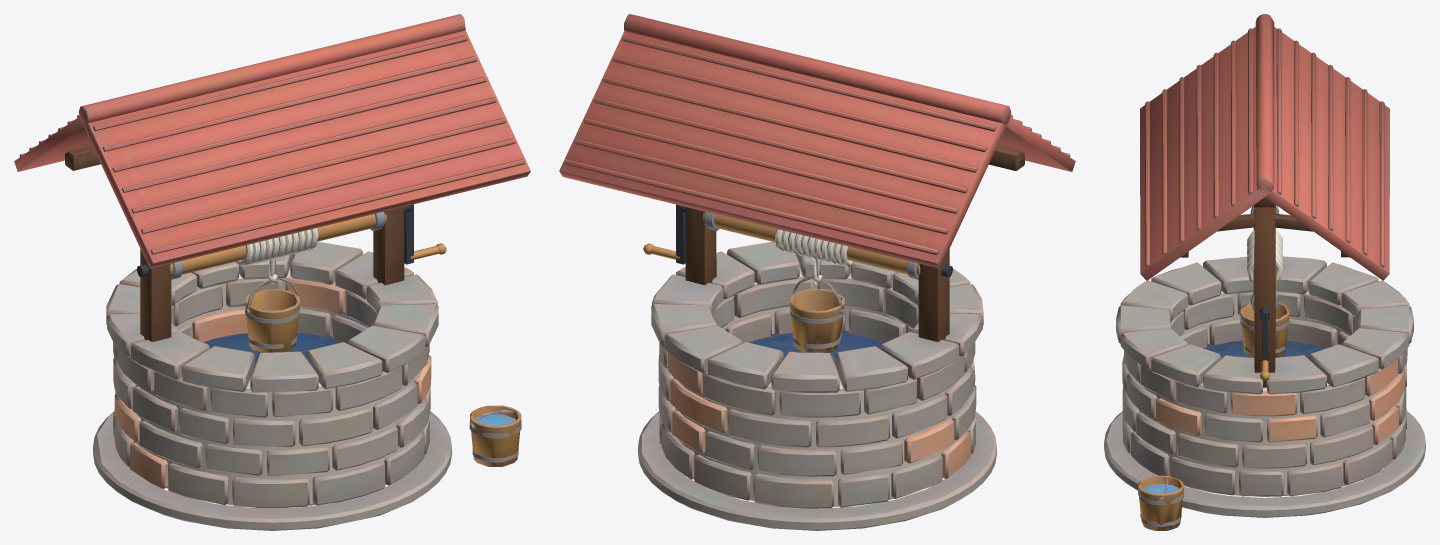
Rendered from village-well.glb.
3 renders of one model, left to right at view 1: azimuth 30°, elevation 25°; view 2: azimuth 150°, elevation 25°; view 3: azimuth 270°, elevation 25°, orthographic. The views are drawn at different scales.
Visible parts, largest first — view 1: village-well_body, village-well_winch; view 2: village-well_body, village-well_winch; view 3: village-well_body, village-well_winch.
Boxes of the visible parts, x1=… form: village-well_body: x1=14, y1=14, x2=530, y2=530; village-well_winch: x1=137, y1=204, x2=446, y2=279; village-well_body: x1=559, y1=14, x2=1075, y2=530; village-well_winch: x1=643, y1=204, x2=952, y2=279; village-well_body: x1=1104, y1=14, x2=1425, y2=530; village-well_winch: x1=1247, y1=205, x2=1282, y2=380.
Bounding box in the file's own units: 2.34 × 2.34 × 1.92.
Materials: 5 (1 with a texture image).
